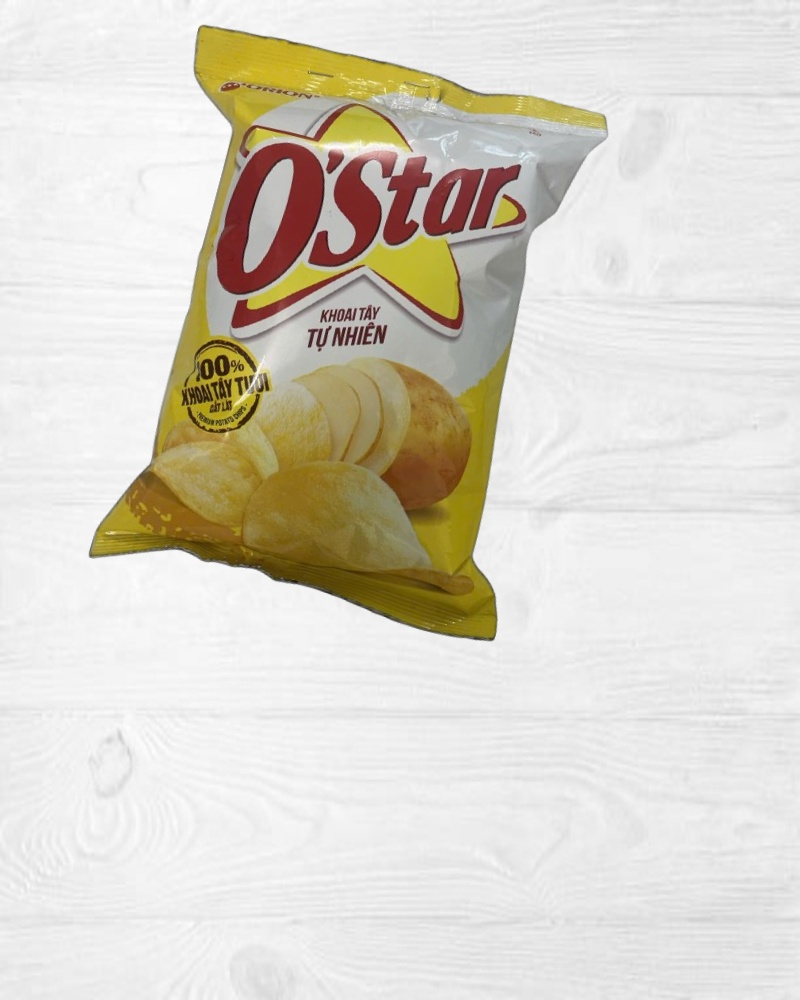O'star: (61, 8, 633, 664)
